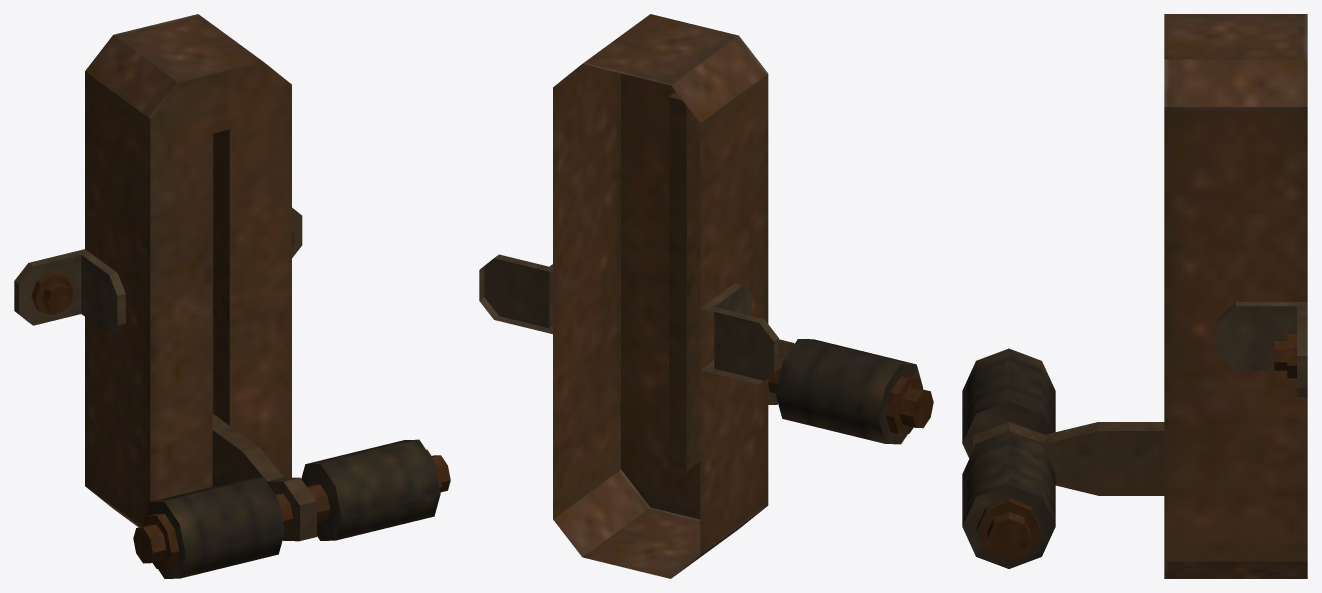
The model's file is lever_etx_5.obj.
3 renders of one model, left to right at view 1: azimuth 30°, elevation 25°; view 2: azimuth 150°, elevation 25°; view 3: azimuth 270°, elevation 25°, orthographic. The views are drawn at different scales.
Visible parts, largest first — view 1: lever_etx_5, lever_etx_5_child; view 2: lever_etx_5, lever_etx_5_child; view 3: lever_etx_5, lever_etx_5_child.
Part boxes in pixels (bbox=[...]): lever_etx_5: bbox=[14, 14, 302, 527]; lever_etx_5_child: bbox=[133, 414, 450, 578]; lever_etx_5: bbox=[479, 14, 778, 578]; lever_etx_5_child: bbox=[686, 339, 933, 470]; lever_etx_5: bbox=[1164, 14, 1307, 578]; lever_etx_5_child: bbox=[962, 348, 1164, 568].
Bounding box in the file's own units: 0.1894 × 0.288 × 0.1734.
